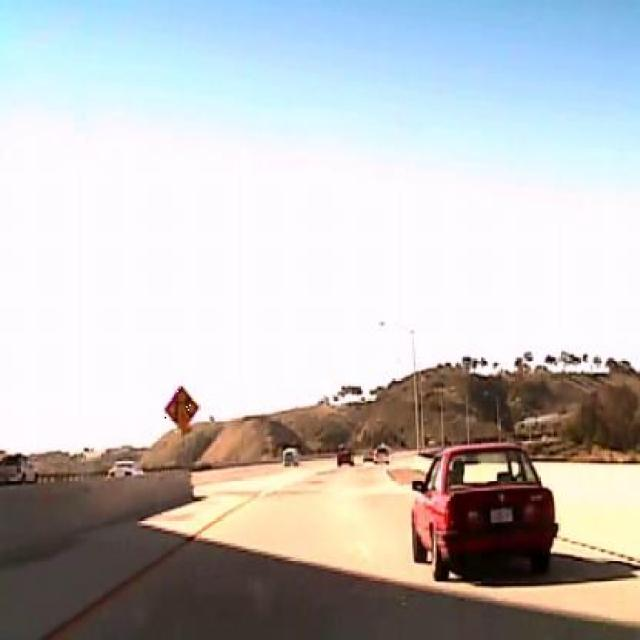addedLane: (163, 385, 199, 433)
